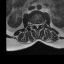CCS_normal: (36, 22, 38, 30)
LFS_stenosis: (40, 22, 41, 26)
LLS_normal: (38, 22, 39, 27)
RFS_stenosis: (33, 22, 34, 26)
RLS_stenosis: (34, 22, 36, 28)
